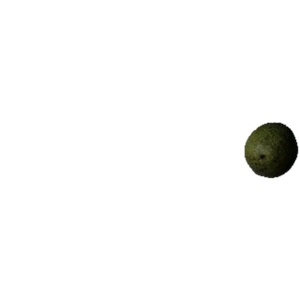abacate: (242, 119, 300, 179)
